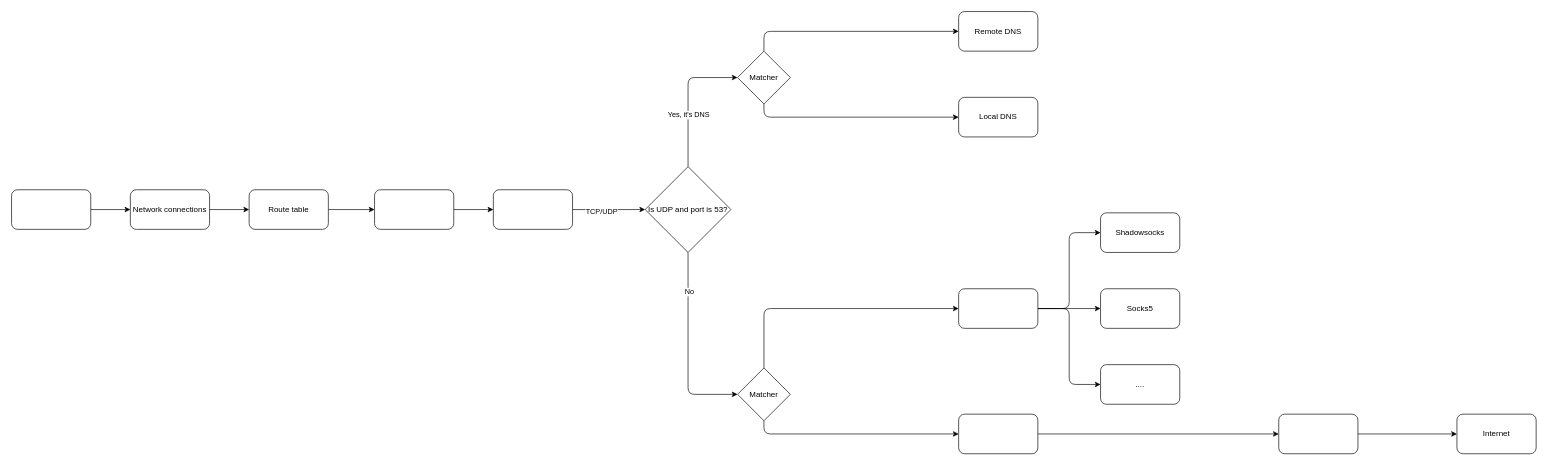
Image size: 1548x465. Some labels were removed from this diagram. Each missing label, with the centre of its shape:
"Direct" belongs at [998,433].
"Directed Network Interface" belongs at [1318,433].
"Network stack(Lwip)" belongs at [533,209].
"Programs" belongs at [51,209].
"Proxy" belongs at [998,308].
"Tun device" belongs at [414,209].
